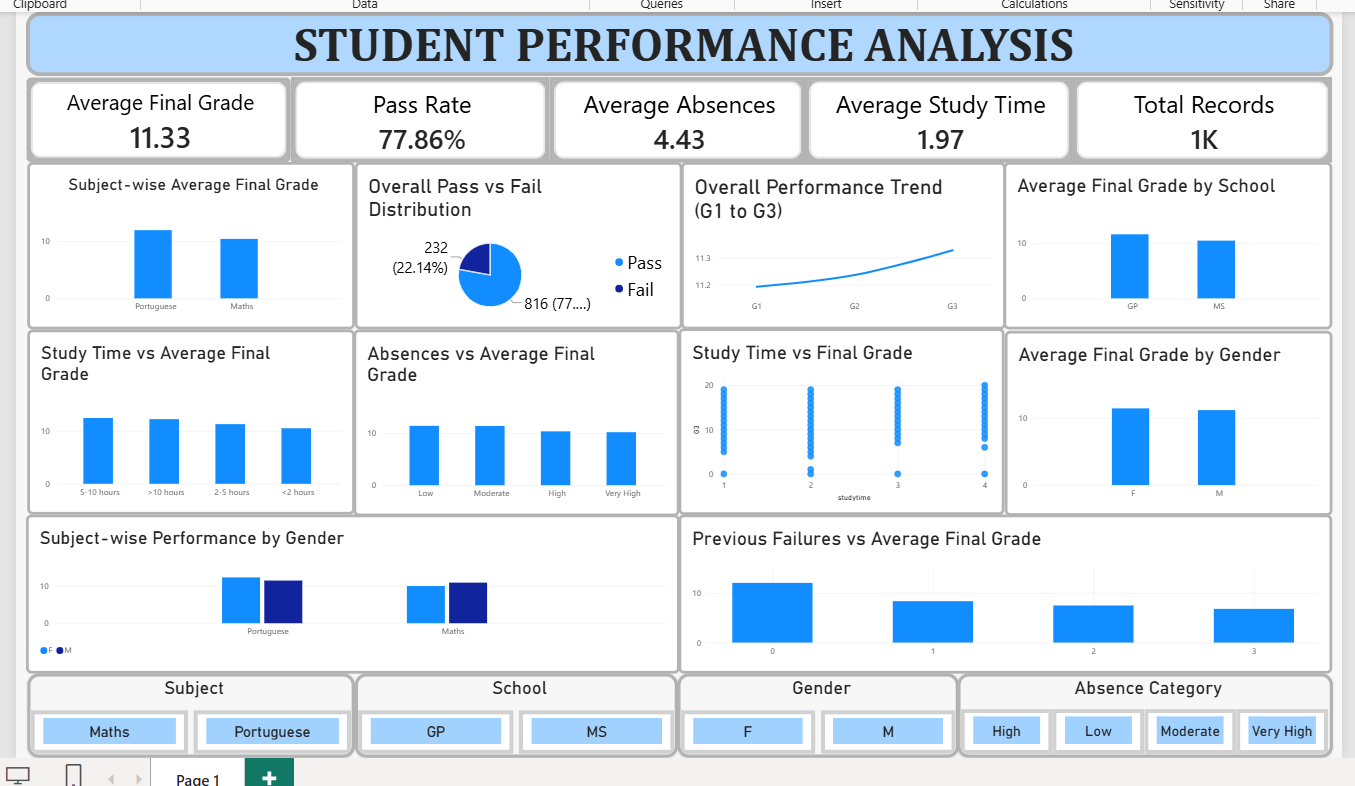

The dashboard page shown, as its layout file describes it:
{"tool":"powerbi","page":{"name":"Page 1","canvas":[1920,1080],"ordinal":0},"visuals":[{"type":"cardVisual","fields":{"Data":["Maths.Average Final Grade"]},"box":[14,94,384,124],"z":0},{"type":"cardVisual","fields":{"Data":["Maths.Average Absences"]},"box":[772,94,370,124],"z":1000},{"type":"cardVisual","fields":{"Data":["Maths.Pass Rate"]},"box":[398,94,374,124],"z":2000},{"type":"cardVisual","fields":{"Data":["Maths.Average Study Time"]},"box":[1142,94,388,124],"z":3000},{"type":"cardVisual","fields":{"Data":["Maths.Total Records"]},"box":[1530,94,376,124],"z":4000},{"type":"textbox","title":"STUDENT PERFORMANCE ANALYSIS","box":[14,0,1893,93],"z":5000},{"type":"columnChart","title":"Subject-wise Average Final Grade","fields":{"Category":["StudentPerformance.Subject"],"Y":["Maths.Average Final Grade"]},"box":[16,218,474,242],"z":6000},{"type":"pieChart","title":"Overall Pass vs Fail Distribution","fields":{"Y":["Maths.Total Records"],"Category":["StudentPerformance.Result"]},"box":[490,218,474,242],"z":7000},{"type":"lineChart","title":"Overall Performance Trend (G1 to G3)","fields":{"Category":["GradePeriods.Period"],"Y":["GradePeriods.Average Grade Trend"]},"box":[962,218,470,242],"z":8000},{"type":"clusteredColumnChart","title":"Study Time vs Average Final Grade","fields":{"Y":["Maths.Average Final Grade"],"Category":["StudentPerformance.Study Time Category"]},"box":[16,460,474,268],"z":9000},{"type":"clusteredColumnChart","title":"Absences vs Average Final Grade","fields":{"Category":["StudentPerformance.Absence Category"],"Y":["Maths.Average Final Grade"]},"box":[488,460,472,270],"z":10000},{"type":"scatterChart","title":"Study Time vs Final Grade","fields":{"X":["StudentPerformance.studytime"],"Y":["StudentPerformance.G3"]},"box":[960,458,472,270],"z":11000},{"type":"clusteredColumnChart","title":"Average Final Grade by School","fields":{"Y":["Maths.Average Final Grade"],"Category":["StudentPerformance.school"]},"box":[1430,218,476,242],"z":12000},{"type":"clusteredColumnChart","title":"Average Final Grade by Gender","fields":{"Category":["StudentPerformance.sex"],"Y":["Maths.Average Final Grade"]},"box":[1432,462,474,268],"z":13000},{"type":"clusteredColumnChart","title":"Subject-wise Performance by Gender","fields":{"Category":["StudentPerformance.Subject"],"Y":["Maths.Average Final Grade"],"Series":["StudentPerformance.sex"]},"box":[14,728,946,230],"z":14000},{"type":"advancedSlicerVisual","fields":{"Values":["StudentPerformance.Subject"]},"box":[16,958,474,122],"z":15000},{"type":"clusteredColumnChart","title":"Previous Failures vs Average Final Grade","fields":{"Category":["StudentPerformance.failures"],"Y":["Maths.Average Final Grade"]},"box":[960,728,946,230],"z":16000},{"type":"advancedSlicerVisual","fields":{"Values":["StudentPerformance.school"]},"box":[490,958,468,122],"z":17000},{"type":"advancedSlicerVisual","fields":{"Values":["StudentPerformance.sex"]},"box":[958,958,408,122],"z":18000},{"type":"advancedSlicerVisual","fields":{"Values":["StudentPerformance.Absence Category"]},"box":[1363,958,544,122],"z":19000}]}

Visuals, with their boxes in screenshot pixels (x1, y1, x2, y2):
cardVisual - Maths.Average Final Grade: Rect(17, 69, 284, 155)
cardVisual - Maths.Average Absences: Rect(544, 69, 802, 155)
cardVisual - Maths.Pass Rate: Rect(284, 69, 544, 155)
cardVisual - Maths.Average Study Time: Rect(802, 69, 1072, 155)
cardVisual - Maths.Total Records: Rect(1072, 69, 1334, 155)
"STUDENT PERFORMANCE ANALYSIS" textbox: Rect(17, 4, 1334, 68)
"Subject-wise Average Final Grade" columnChart: Rect(18, 155, 348, 324)
"Overall Pass vs Fail Distribution" pieChart: Rect(348, 155, 678, 324)
"Overall Performance Trend (G1 to G3)" lineChart: Rect(677, 155, 1004, 324)
"Study Time vs Average Final Grade" clusteredColumnChart: Rect(18, 324, 348, 510)
"Absences vs Average Final Grade" clusteredColumnChart: Rect(347, 324, 675, 512)
"Study Time vs Final Grade" scatterChart: Rect(675, 322, 1004, 510)
"Average Final Grade by School" clusteredColumnChart: Rect(1002, 155, 1334, 324)
"Average Final Grade by Gender" clusteredColumnChart: Rect(1004, 325, 1334, 512)
"Subject-wise Performance by Gender" clusteredColumnChart: Rect(17, 510, 675, 670)
advancedSlicerVisual - StudentPerformance.Subject: Rect(18, 670, 348, 755)
"Previous Failures vs Average Final Grade" clusteredColumnChart: Rect(675, 510, 1334, 670)
advancedSlicerVisual - StudentPerformance.school: Rect(348, 670, 674, 755)
advancedSlicerVisual - StudentPerformance.sex: Rect(674, 670, 958, 755)
advancedSlicerVisual - StudentPerformance.Absence Category: Rect(956, 670, 1334, 755)
